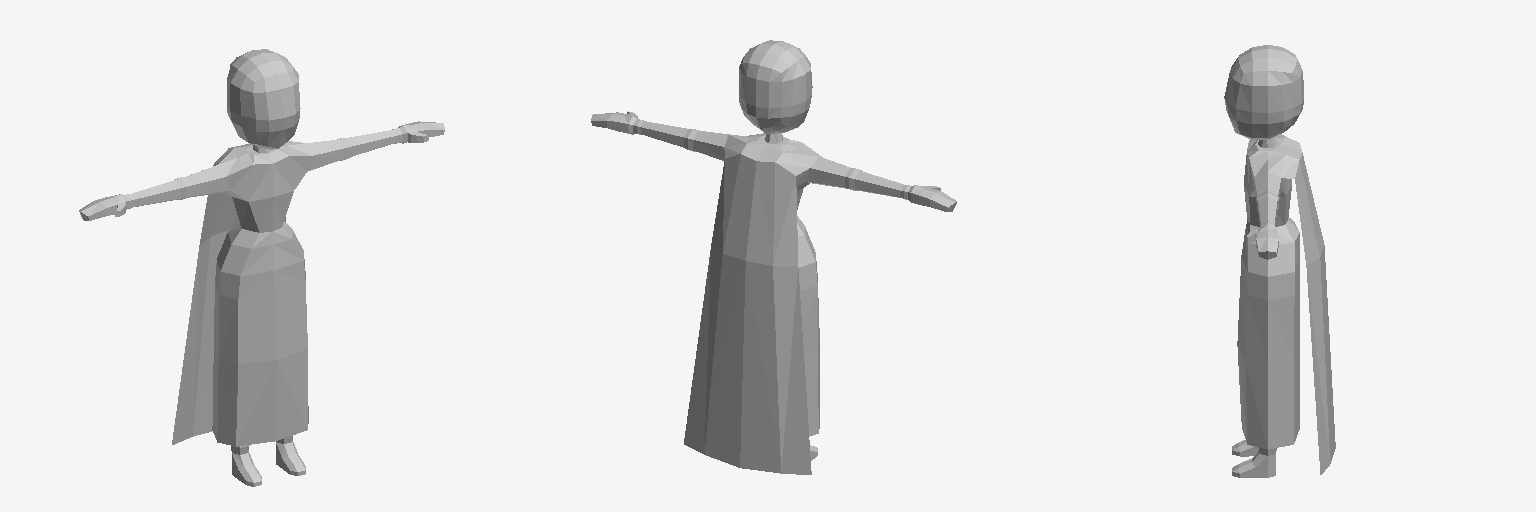
File: Dummy_wood.obj
3 renders of one model, left to right at view 1: azimuth 30°, elevation 25°; view 2: azimuth 150°, elevation 25°; view 3: azimuth 270°, elevation 25°, orthographic.
Parts seen in each view (by area): view 1: Cylinder; view 2: Cylinder; view 3: Cylinder.
Boxes of the visible parts, x1,y1,x2,y2 form: Cylinder: [79, 49, 444, 486]; Cylinder: [591, 40, 956, 474]; Cylinder: [1224, 45, 1335, 477].
Size of the model in its own units: 7.59 by 8.29 by 2.02.